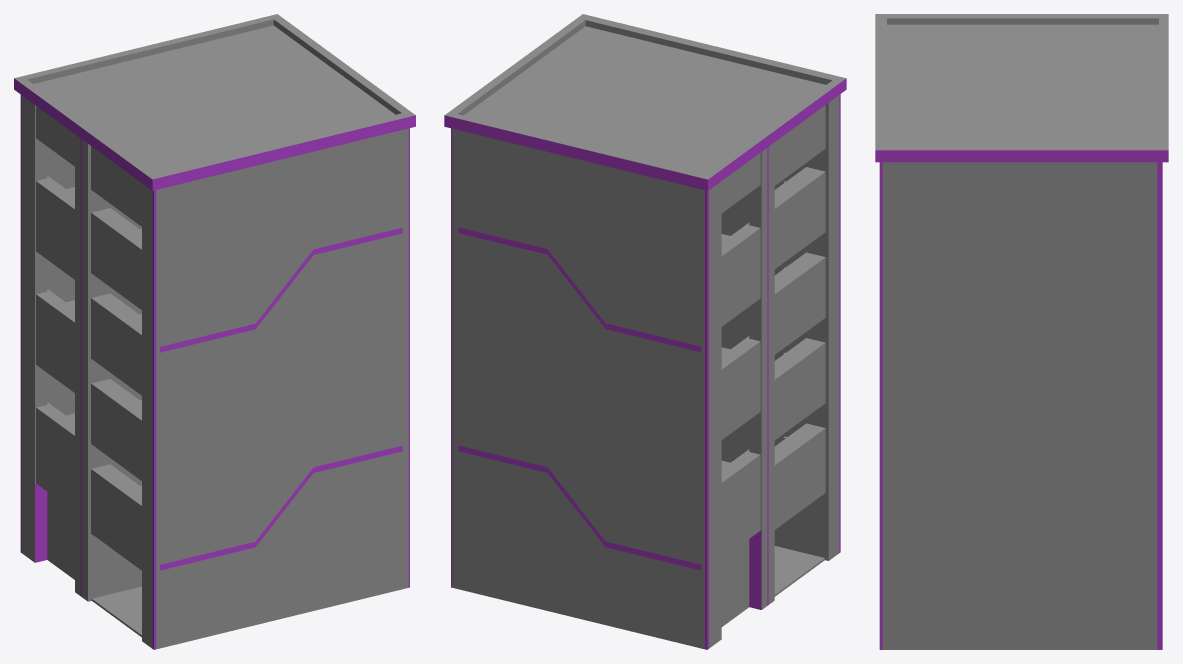
The model's file is buildings_S_06.fbx.
The picture shows the model from 3 angles, left to right: view 1: azimuth 30°, elevation 25°; view 2: azimuth 150°, elevation 25°; view 3: azimuth 270°, elevation 25°; orthographic projection. The views are drawn at different scales.
Visible parts, largest first — view 1: buildings_S_06; view 2: buildings_S_06; view 3: buildings_S_06.
Part boxes in pixels (x1=…): buildings_S_06: x1=14, y1=14, x2=415, y2=649; buildings_S_06: x1=444, y1=14, x2=846, y2=649; buildings_S_06: x1=875, y1=14, x2=1168, y2=649.
Bounding box in the file's own units: 9.53 × 16.36 × 8.68.
